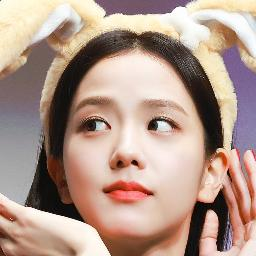face: (77, 66, 189, 228)
